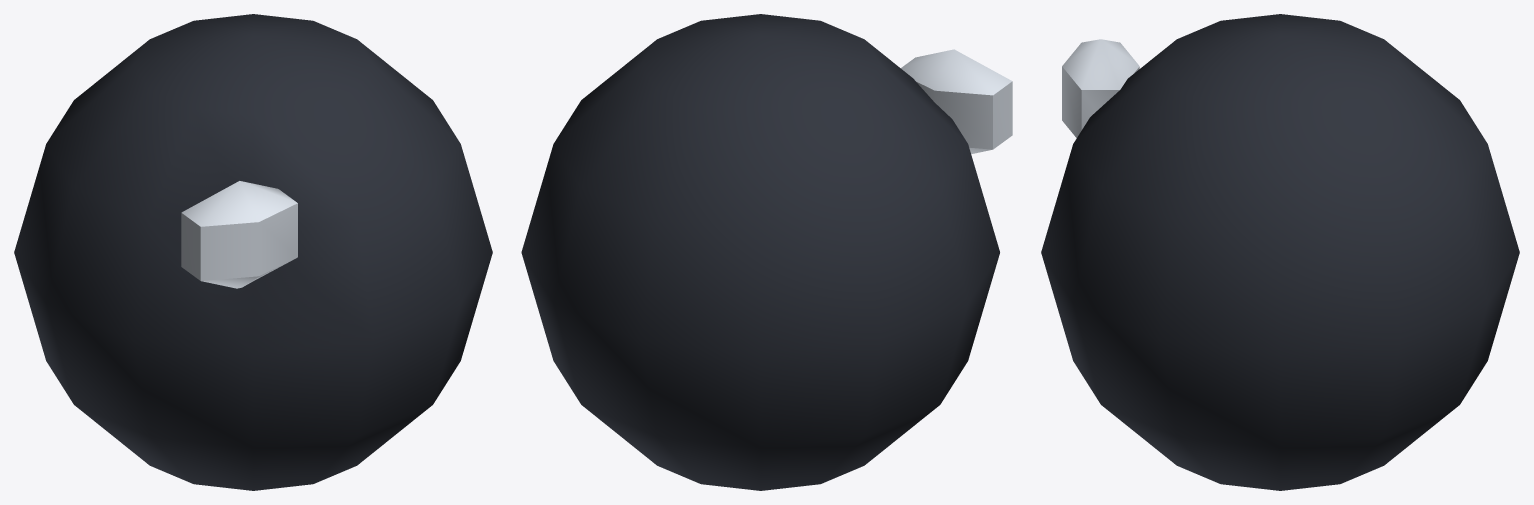
File: cannonball.glb
3 views of the same model, side by side, from view 1: azimuth 30°, elevation 25°; view 2: azimuth 150°, elevation 25°; view 3: azimuth 270°, elevation 25° (orthographic).
Visible parts, largest first — view 1: Ball; view 2: Ball; view 3: Ball.
Boxes of the visible parts, x1=… form: Ball: x1=14, y1=14, x2=492, y2=490; Ball: x1=521, y1=14, x2=1012, y2=490; Ball: x1=1041, y1=14, x2=1519, y2=490.
Bounding box in the file's own units: 0.16 × 0.16 × 0.16.
Materials: 1 (1 with a texture image).
